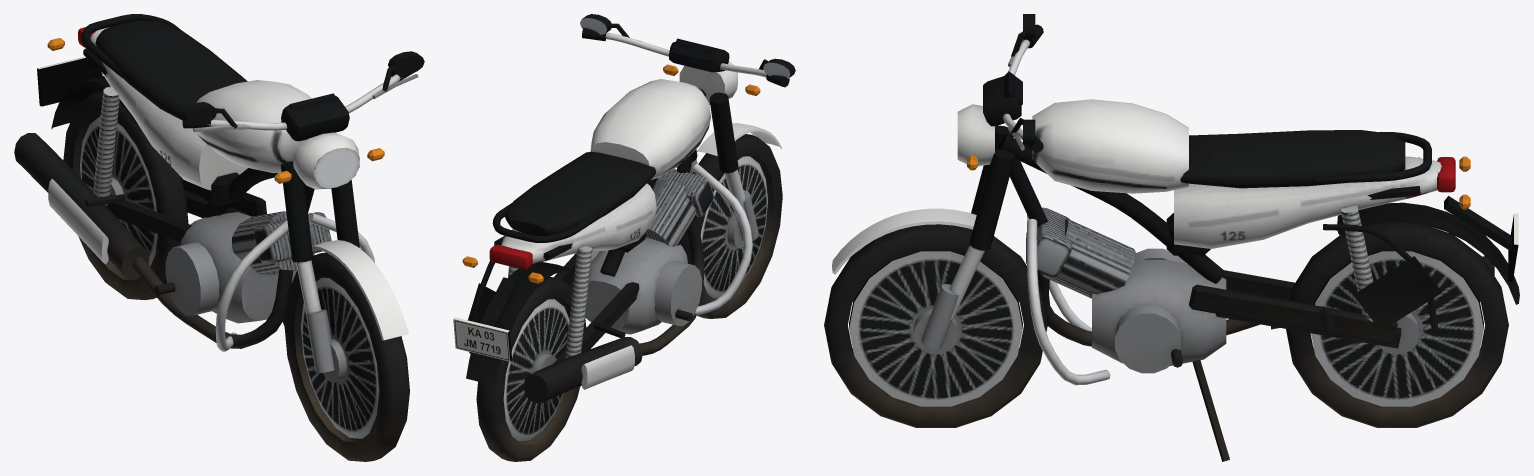
File: motorbike.glb
The picture shows the model from 3 angles, left to right: view 1: azimuth 30°, elevation 25°; view 2: azimuth 150°, elevation 25°; view 3: azimuth 270°, elevation 25°; orthographic projection. The views are drawn at different scales.
Visible parts, largest first — view 1: motorbike; view 2: motorbike; view 3: motorbike.
Part boxes in pixels (x1=…): motorbike: x1=14, y1=14, x2=424, y2=461; motorbike: x1=453, y1=14, x2=795, y2=461; motorbike: x1=824, y1=14, x2=1519, y2=461.
Bounding box in the file's own units: 0.77 × 1.05 × 1.87.
Materials: 1 (1 with a texture image).
